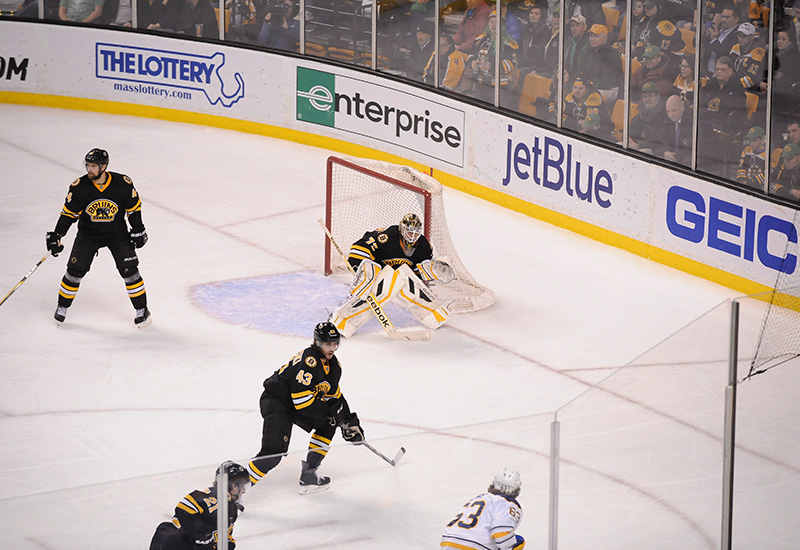Geico: (665, 177, 800, 282)
